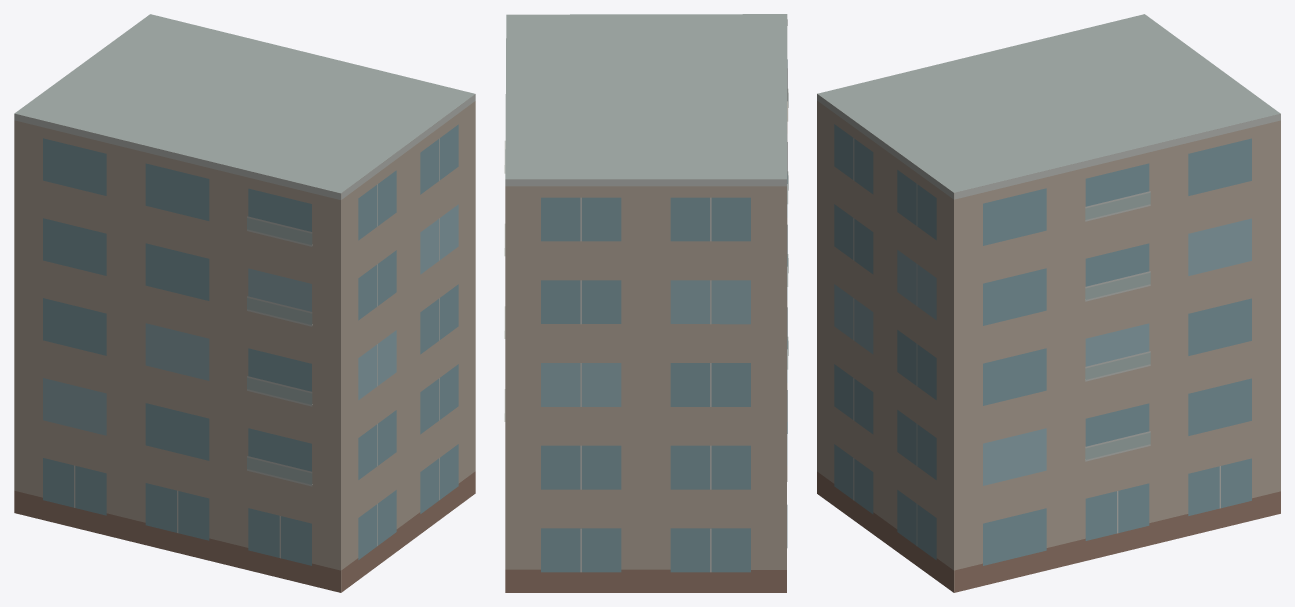
The model's file is survey-upis-32966083.glb.
3 views of the same model, side by side, from view 1: azimuth 30°, elevation 25°; view 2: azimuth 150°, elevation 25°; view 3: azimuth 270°, elevation 25° (orthographic). The views are drawn at different scales.
Visible parts, largest first — view 1: survey-upis-32966083.tmp; view 2: survey-upis-32966083.tmp; view 3: survey-upis-32966083.tmp.
Part boxes in pixels (x1,y1,x2,y2): survey-upis-32966083.tmp: (14, 14, 475, 592); survey-upis-32966083.tmp: (504, 14, 788, 592); survey-upis-32966083.tmp: (817, 14, 1280, 592).
Size of the model in its own units: 13.82 by 14.4 by 15.14.
